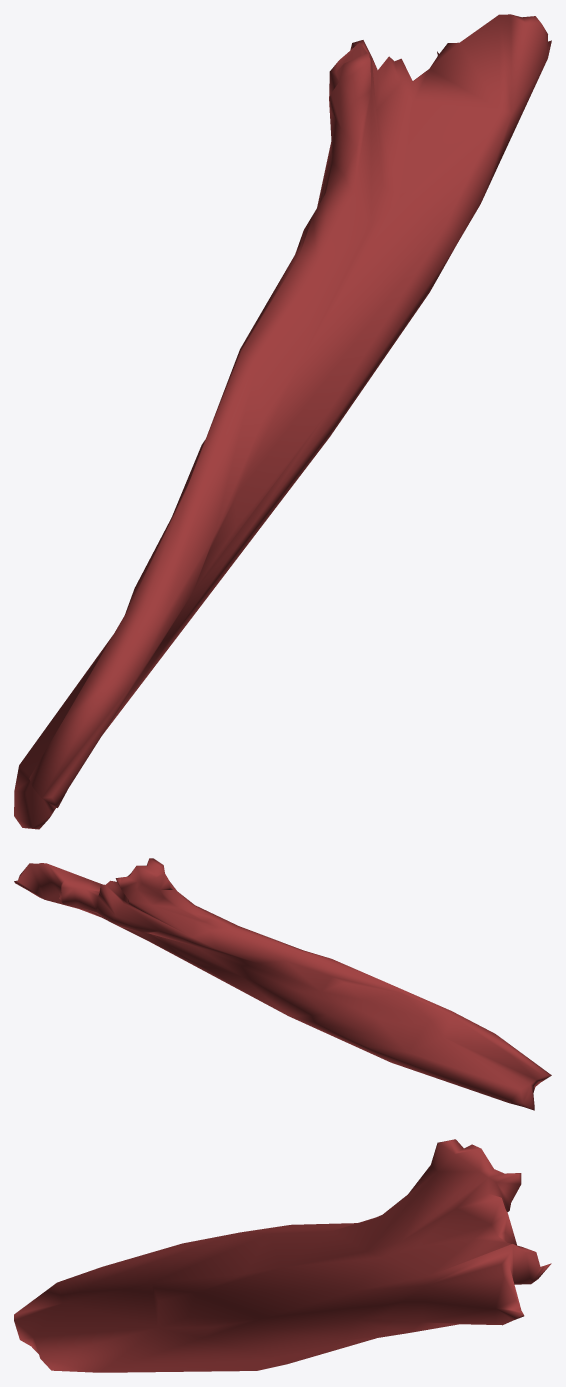
Rendered from opponens-pollicis-muscle-r.glb.
3 renders of one model, top to bottom at view 1: azimuth 30°, elevation 25°; view 2: azimuth 150°, elevation 25°; view 3: azimuth 270°, elevation 25°, orthographic. The views are drawn at different scales.
Visible parts, largest first — view 1: Opponens pollicis muscle.r; view 2: Opponens pollicis muscle.r; view 3: Opponens pollicis muscle.r.
Part boxes in pixels (x1,y1,x2,y2): Opponens pollicis muscle.r: [14, 14, 551, 829]; Opponens pollicis muscle.r: [14, 858, 551, 1110]; Opponens pollicis muscle.r: [14, 1139, 551, 1372].
Size of the model in its own units: 0.0463 by 0.0284 by 0.0287.
